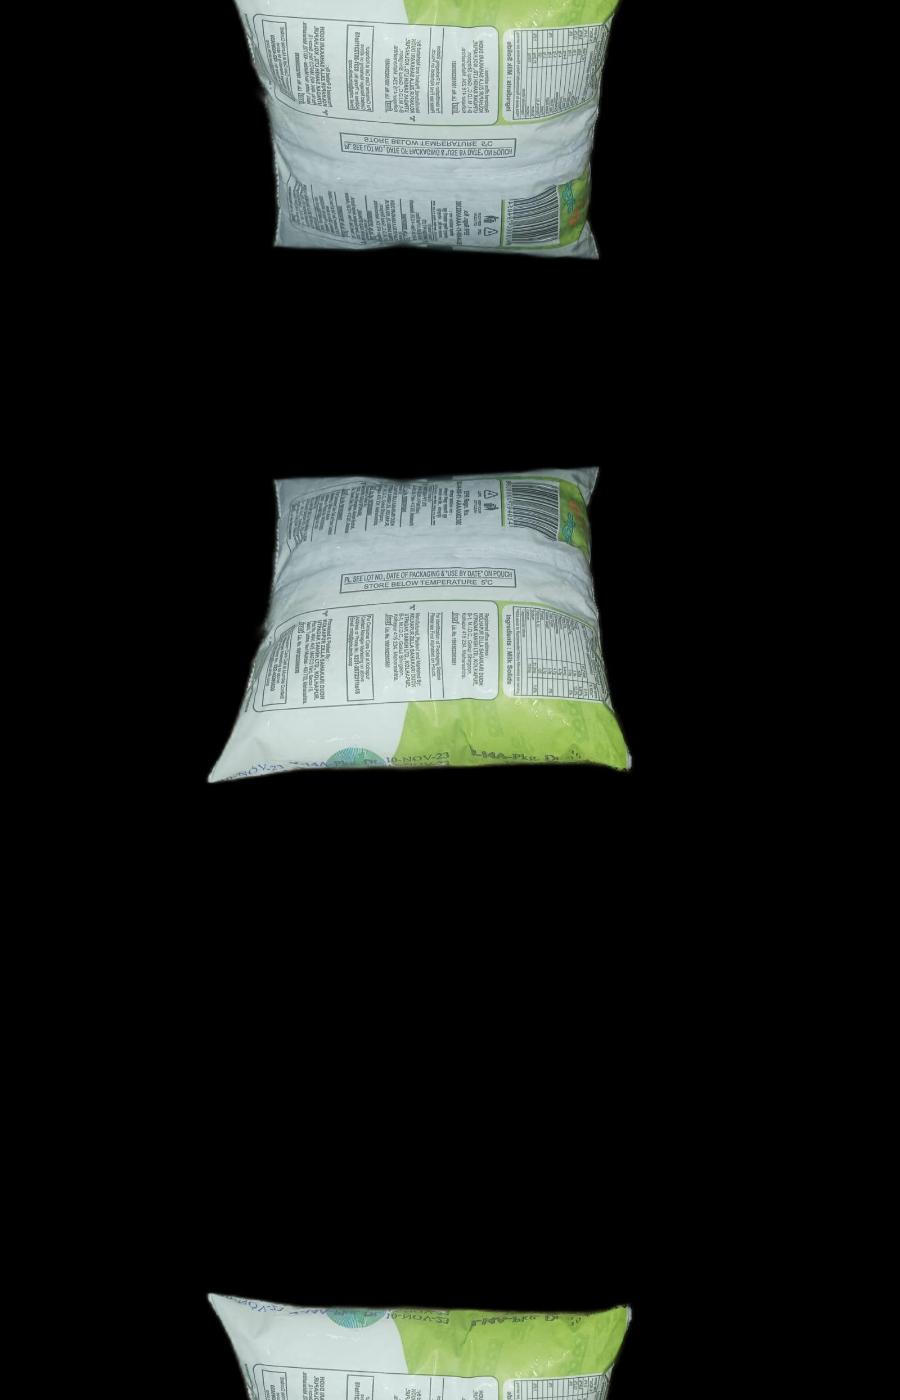Gokul Milk 500ml: (202, 467, 630, 772), (202, 0, 630, 256), (202, 1301, 630, 1400)
